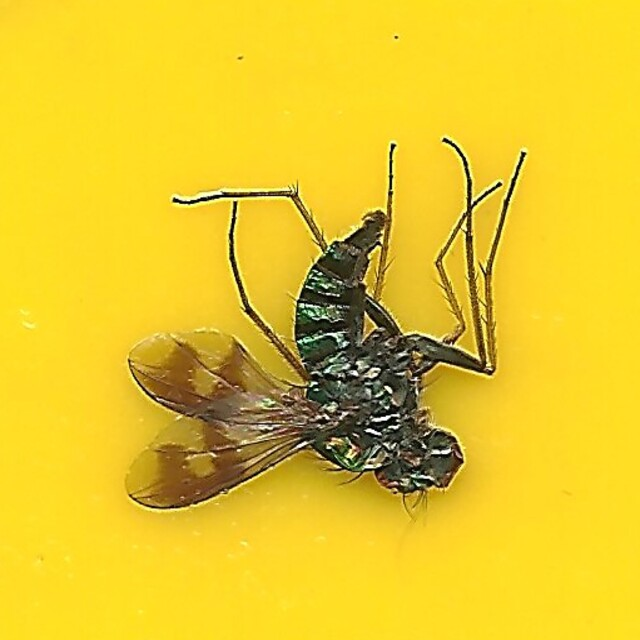Brachycera: (125, 129, 515, 511)
